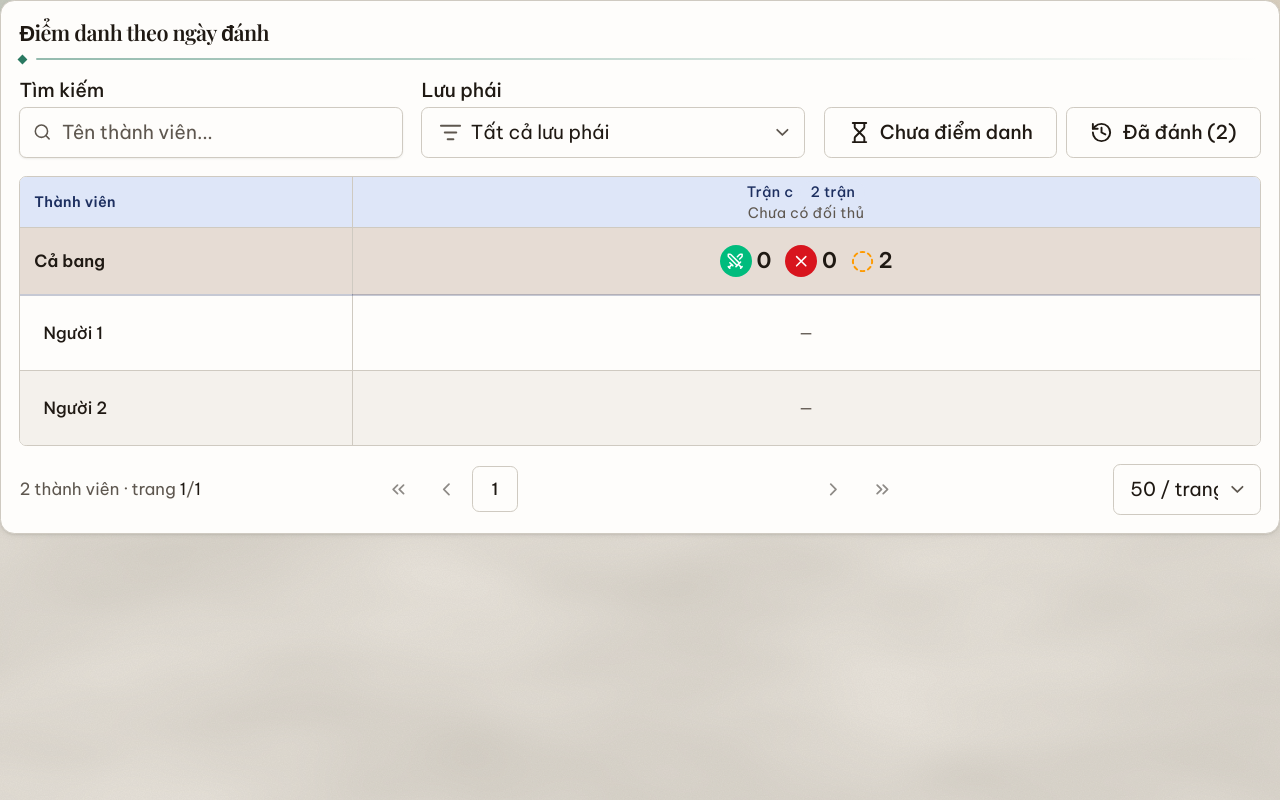
AttendanceGrid - trận đã đánh › nút Đã đánh ghi số cột ẩn, bật thì cột và số tổng của chúng hiện lại
The width and height of the screenshot is (1280, 800).
Click the button "Đã đánh (2)": (1163, 132) left=1066, top=107, right=1261, bottom=158
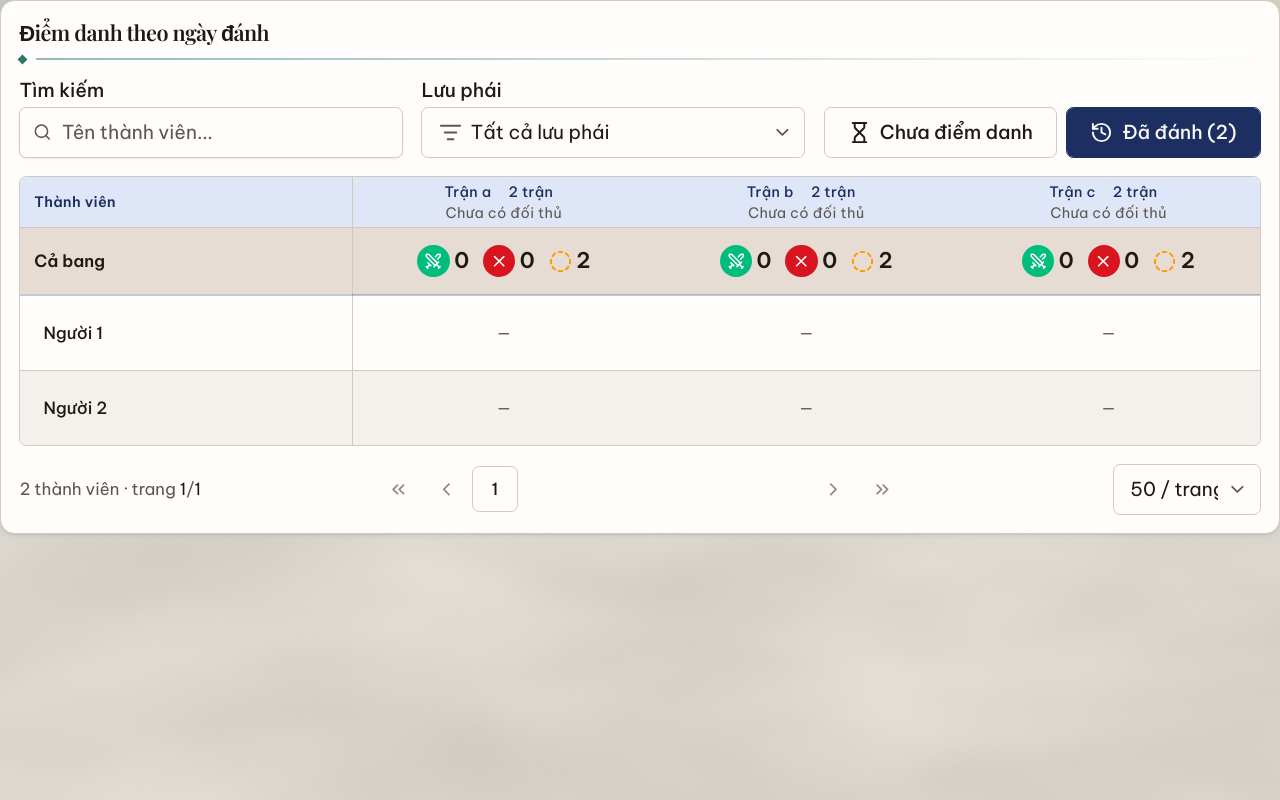
Check: the text "Trận a" is shown, box left=444, top=183, right=491, bottom=201
Check: the text "Trận b" is shown, box left=747, top=183, right=794, bottom=201
Check: the number of column headings is 4, box left=20, top=177, right=352, bottom=228; left=352, top=177, right=655, bottom=228; left=655, top=177, right=957, bottom=228; left=957, top=177, right=1260, bottom=228
